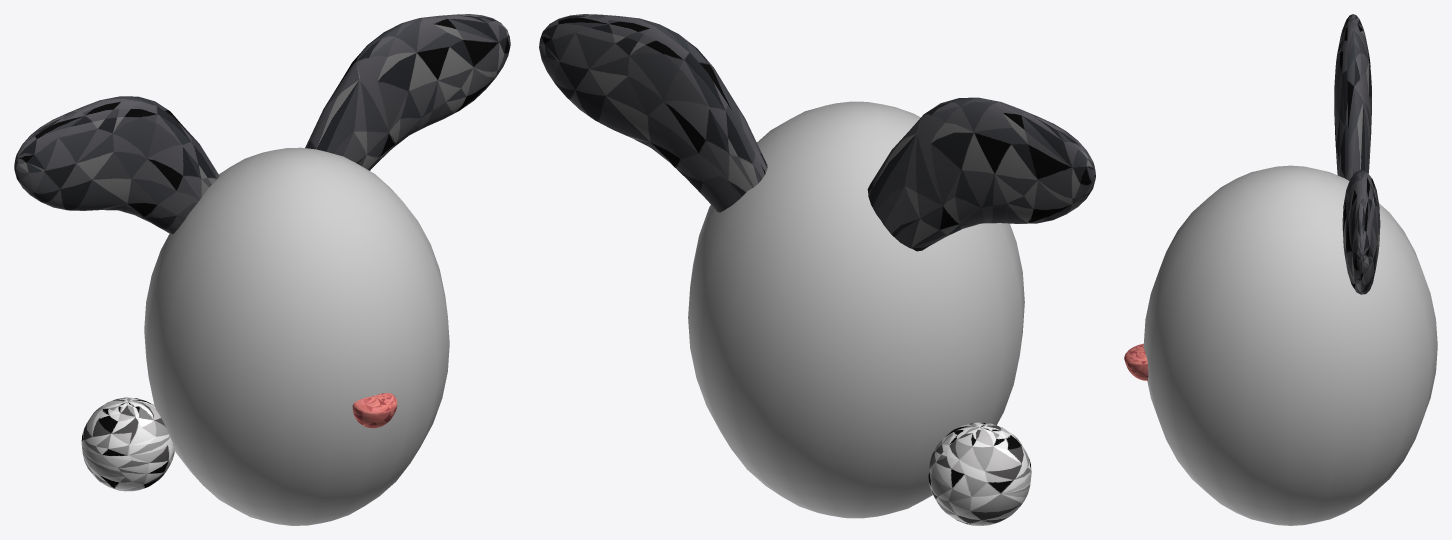
The model's file is Child.fbx.
3 views of the same model, side by side, from view 1: azimuth 30°, elevation 25°; view 2: azimuth 150°, elevation 25°; view 3: azimuth 270°, elevation 25° (orthographic). The views are drawn at different scales.
Parts seen in each view (by area): view 1: polySurface11; view 2: polySurface11; view 3: polySurface11.
Part boxes in pixels (x1=…): polySurface11: x1=14, y1=14, x2=510, y2=525; polySurface11: x1=539, y1=14, x2=1095, y2=525; polySurface11: x1=1124, y1=14, x2=1437, y2=525.
Bounding box in the file's own units: 0.7429 × 0.6115 × 0.4241.
